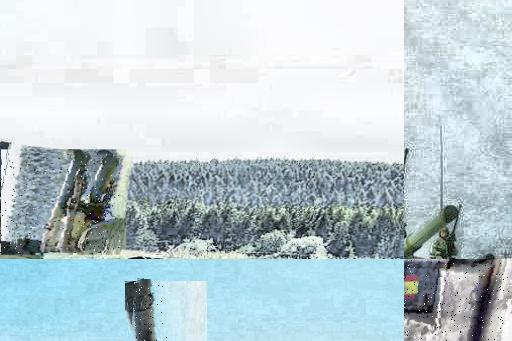tanks: (2, 154, 121, 255), (405, 260, 512, 341), (405, 206, 459, 260), (135, 282, 155, 341), (128, 259, 157, 260)
